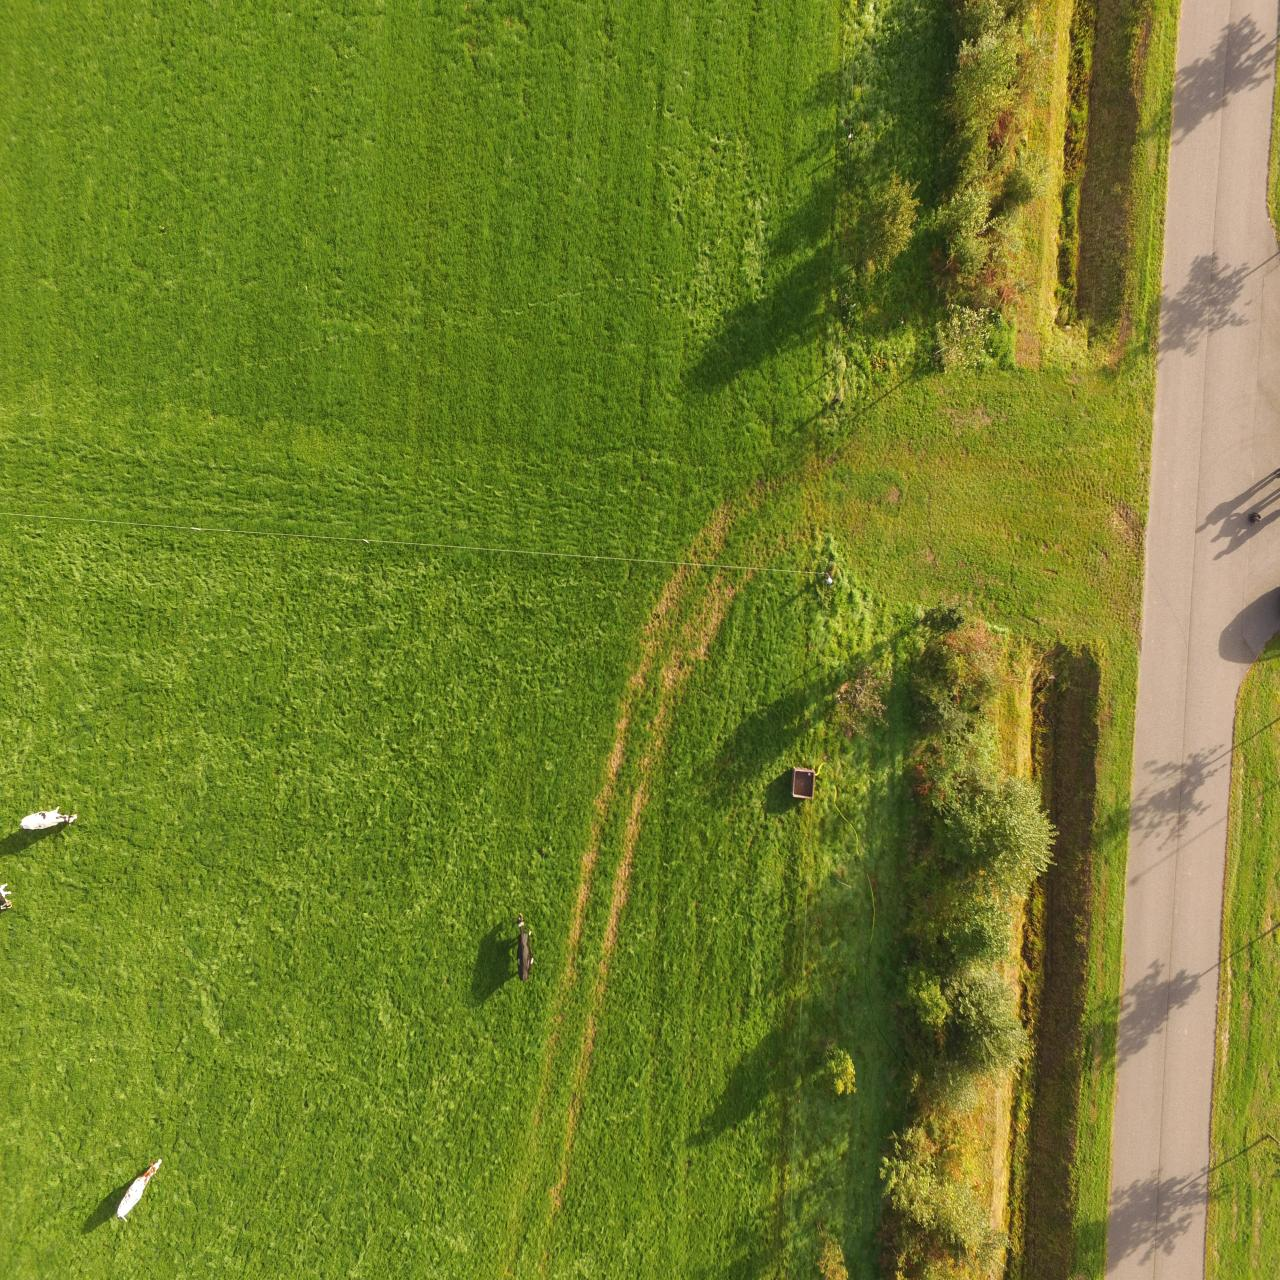cow: (113, 1151, 164, 1225), (15, 799, 80, 840), (515, 910, 535, 985)
